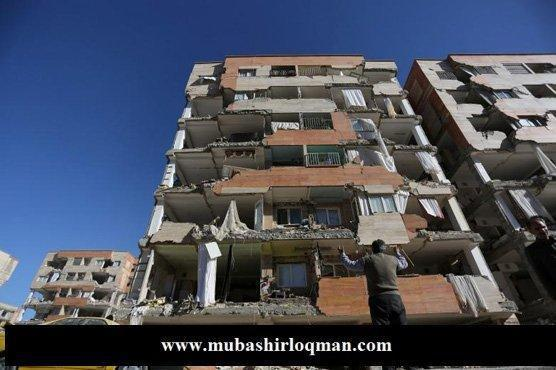destroyed: (177, 48, 452, 322)
